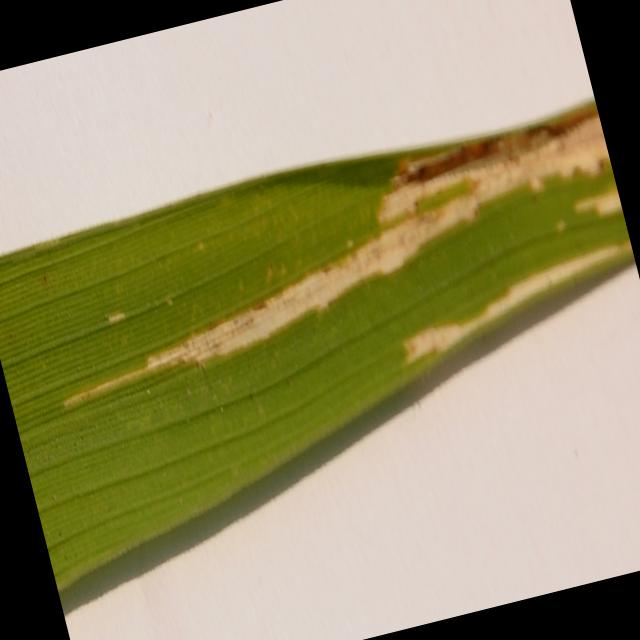leaf_blight: (0, 101, 634, 592)
